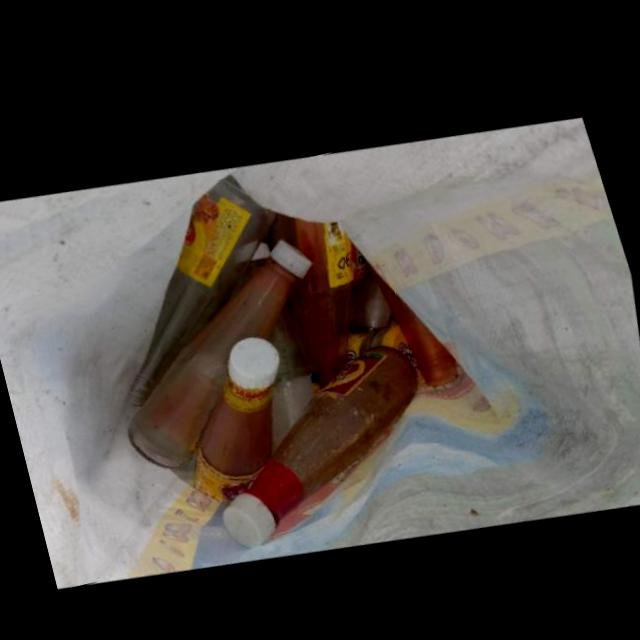chai_thuy_tinh: (130, 233, 316, 460), (223, 341, 423, 541), (132, 172, 282, 398), (191, 330, 283, 493), (282, 207, 362, 384), (375, 261, 467, 381), (272, 292, 324, 444), (350, 320, 426, 378), (354, 260, 395, 328)
